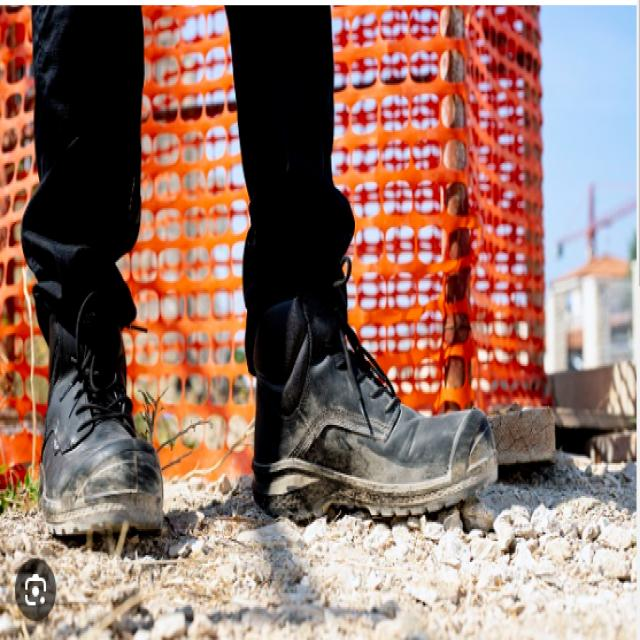shoes: (26, 264, 501, 540)
